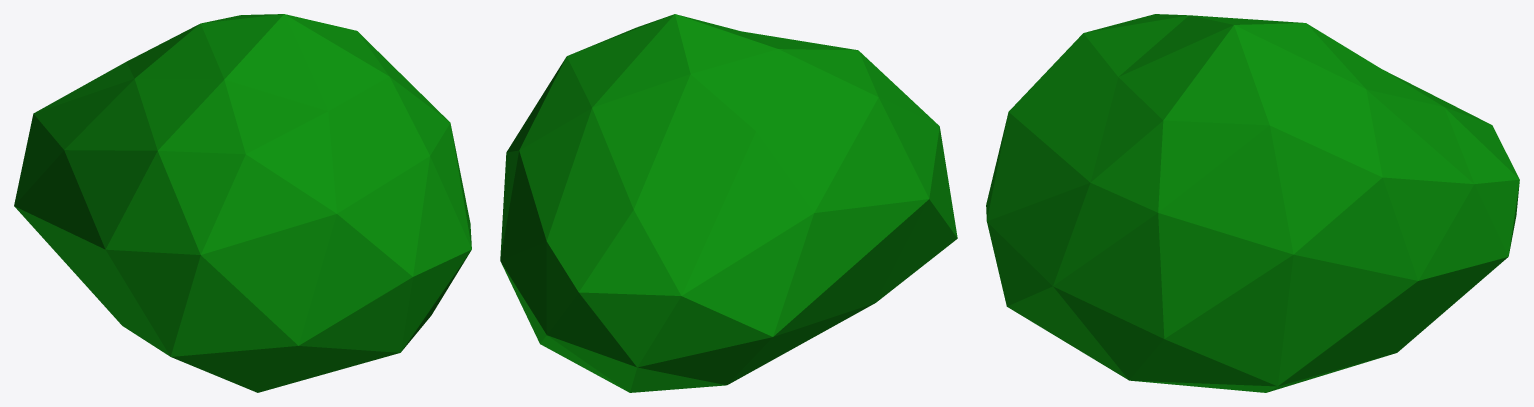
File: lp_tree1_Icosphere_020.obj
3 views of the same model, side by side, from view 1: azimuth 30°, elevation 25°; view 2: azimuth 150°, elevation 25°; view 3: azimuth 270°, elevation 25° (orthographic). The views are drawn at different scales.
Parts seen in each view (by area): view 1: lp_tree1_Icosphere_020; view 2: lp_tree1_Icosphere_020; view 3: lp_tree1_Icosphere_020.
Part boxes in pixels (bbox=[...]): lp_tree1_Icosphere_020: bbox=[14, 14, 471, 392]; lp_tree1_Icosphere_020: bbox=[500, 14, 957, 392]; lp_tree1_Icosphere_020: bbox=[986, 14, 1519, 392].
Size of the model in its own units: 5.47 by 4.62 by 6.5.
